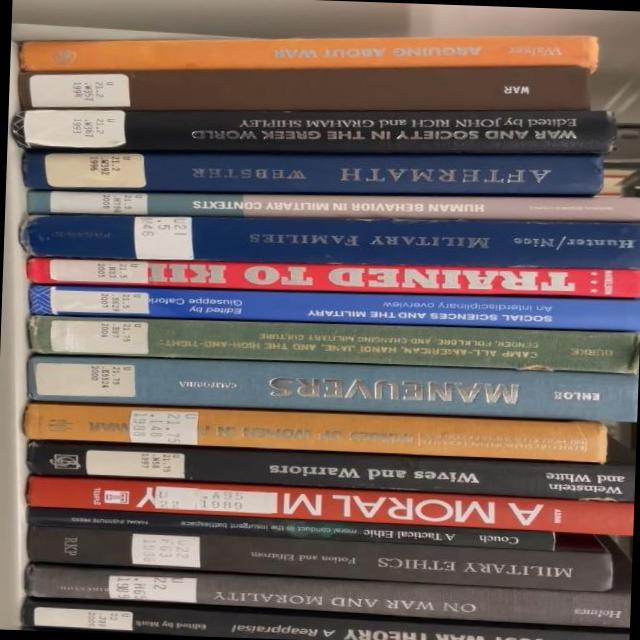book: (26, 354, 638, 421), (23, 562, 631, 627), (27, 525, 612, 592), (25, 440, 635, 501), (28, 315, 639, 374), (26, 475, 634, 534), (22, 402, 605, 463), (27, 285, 640, 331), (11, 109, 616, 153), (19, 66, 588, 112), (22, 597, 630, 640), (22, 150, 601, 195), (26, 506, 555, 552), (28, 258, 640, 297), (191, 217, 640, 269), (18, 35, 597, 71), (26, 190, 640, 222)
